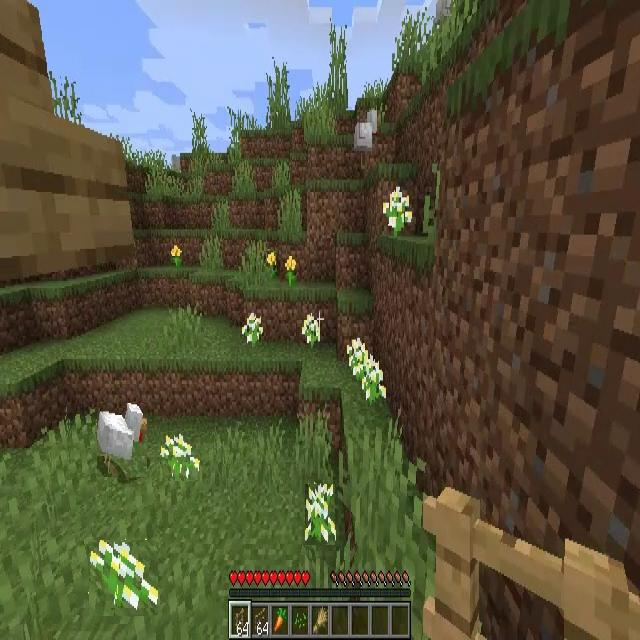duck: (97, 403, 147, 478), (354, 110, 376, 171)
flower: (89, 540, 158, 616), (160, 431, 200, 481), (306, 484, 336, 545), (382, 186, 413, 236), (363, 369, 385, 406), (348, 338, 368, 378), (242, 313, 264, 347), (303, 314, 321, 348), (284, 256, 296, 287), (170, 244, 181, 268), (267, 251, 276, 265)
